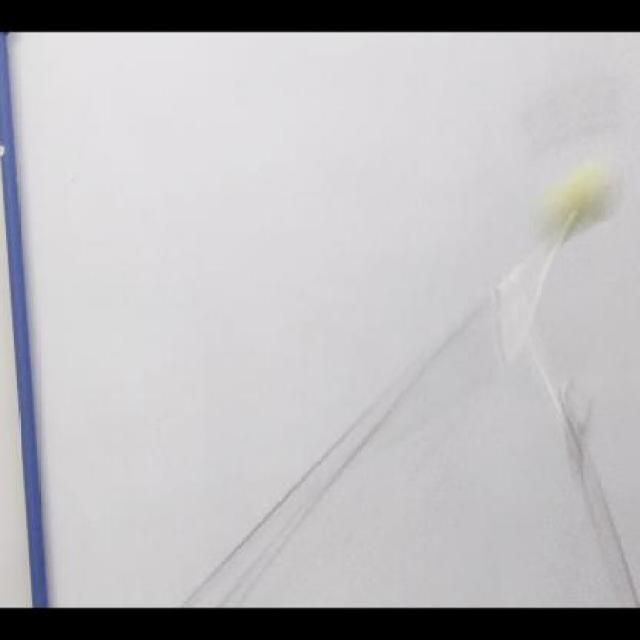baseball: (536, 161, 621, 244)
